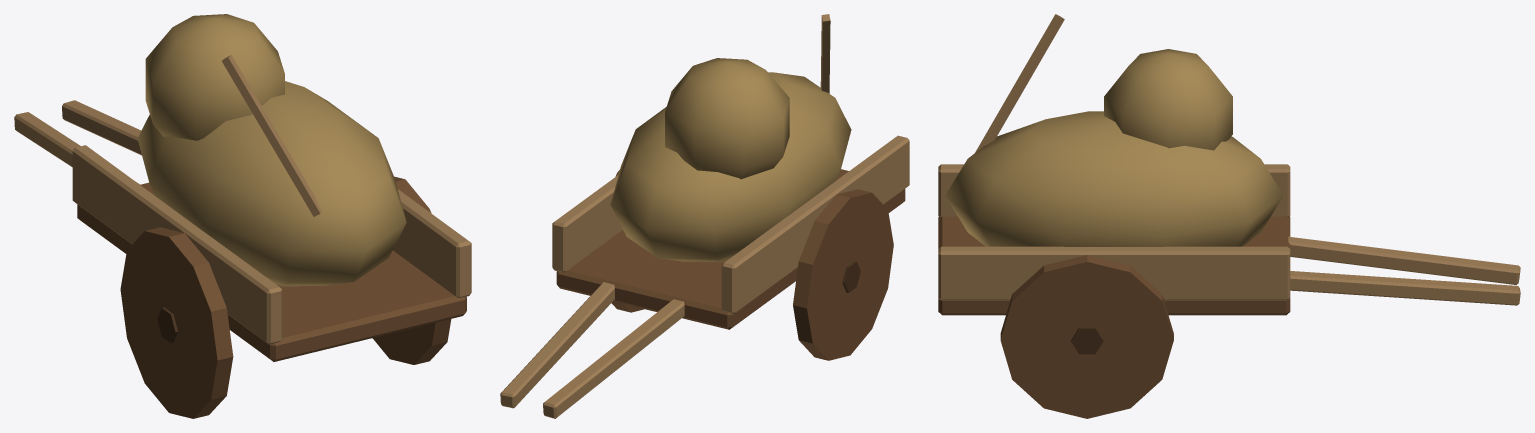
The model's file is haycart.fbx.
The picture shows the model from 3 angles, left to right: view 1: azimuth 30°, elevation 25°; view 2: azimuth 150°, elevation 25°; view 3: azimuth 270°, elevation 25°; orthographic projection. The views are drawn at different scales.
Visible parts, largest first — view 1: Building; view 2: Building; view 3: Building.
Part boxes in pixels (left/top/right/bottom): Building: left=14, top=14, right=471, bottom=418; Building: left=500, top=14, right=909, bottom=418; Building: left=938, top=14, right=1520, bottom=418.
Size of the model in its own units: 0.92 by 2.15 by 1.3.
